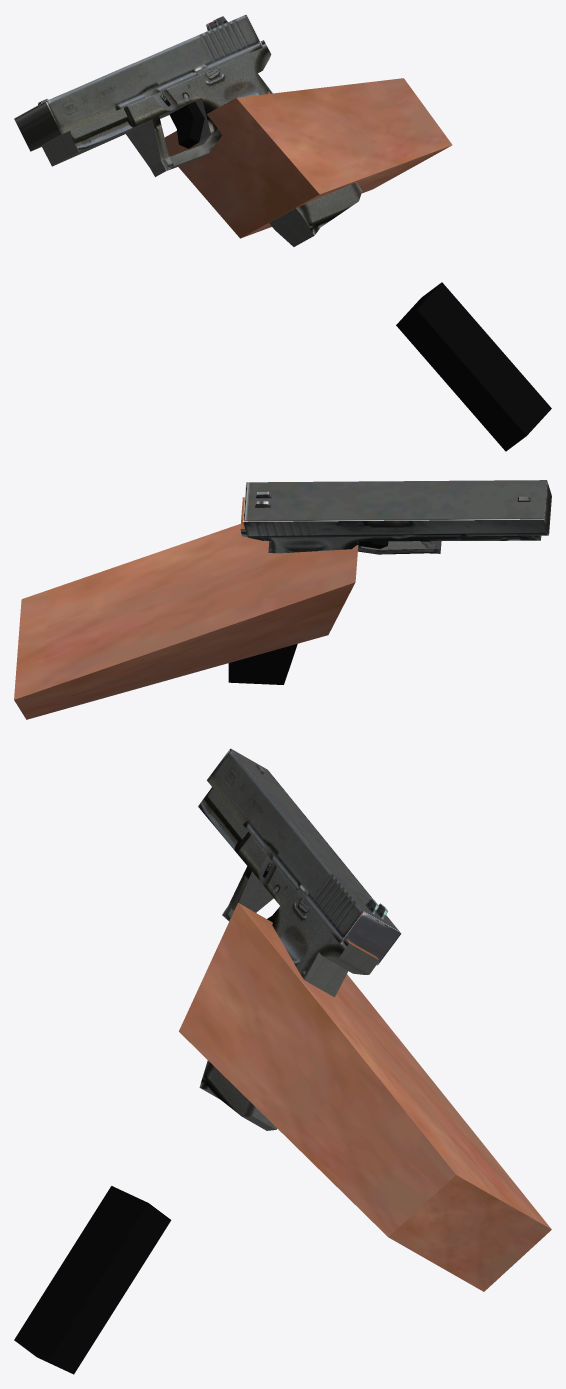
Rendered from pistol_000026.obj.
3 renders of one model, top to bottom at view 1: azimuth 30°, elevation 25°; view 2: azimuth 150°, elevation 25°; view 3: azimuth 270°, elevation 25°, orthographic. The views are drawn at different scales.
Parts seen in each view (by area): view 1: Cube, Cube.002, Cube.001, Cube.003; view 2: Cube, Cube.001, Cube.002; view 3: Cube, Cube.001, Cube.002.
Part boxes in pixels (x1=…): Cube: x1=42, y1=40, x2=452, y2=246; Cube.002: x1=396, y1=282, x2=551, y2=451; Cube.001: x1=14, y1=14, x2=262, y2=151; Cube.003: x1=169, y1=101, x2=204, y2=148; Cube: x1=14, y1=497, x2=541, y2=719; Cube.001: x1=243, y1=480, x2=551, y2=537; Cube.002: x1=228, y1=644, x2=297, y2=684; Cube: x1=179, y1=787, x2=551, y2=1291; Cube.001: x1=207, y1=748, x2=401, y2=965; Cube.002: x1=14, y1=1186, x2=171, y2=1374.
Bounding box in the file's own units: 1.7 × 1.24 × 1.47.
